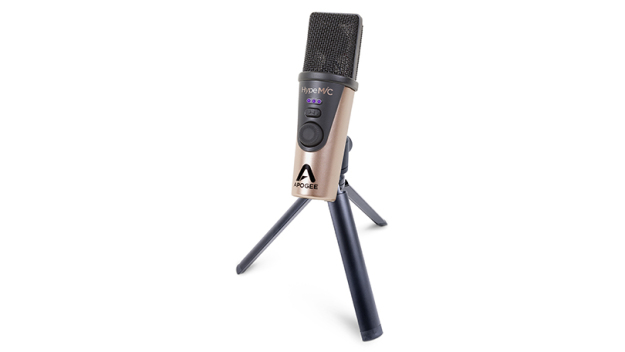microphone: (230, 7, 396, 345)
